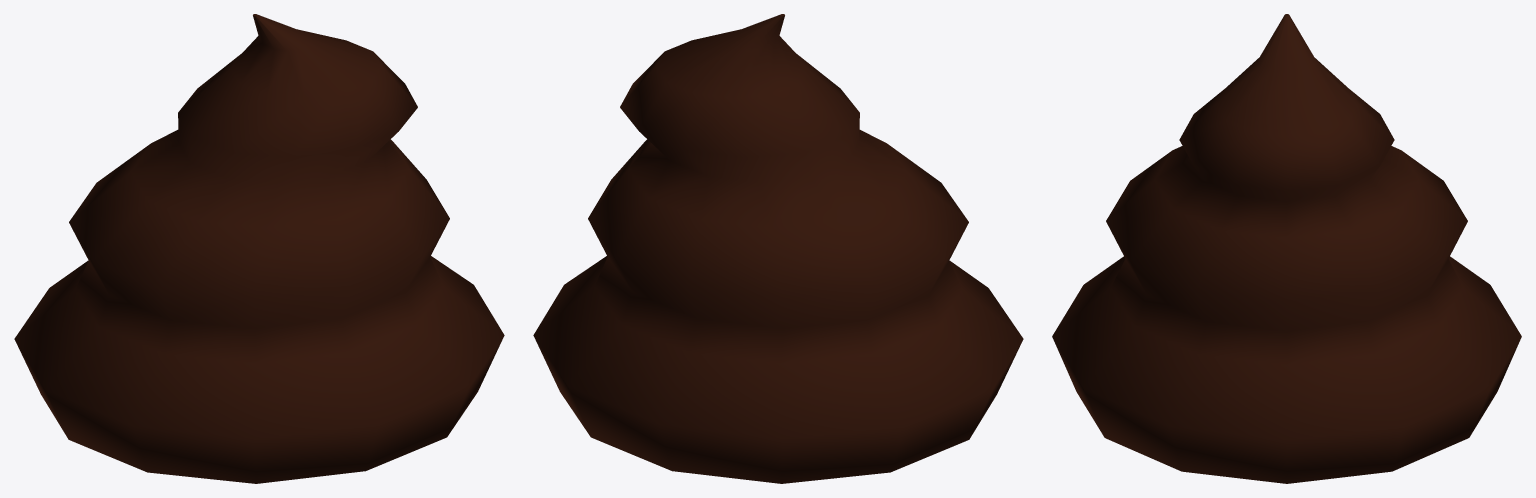
File: dog-poo.glb
3 views of the same model, side by side, from view 1: azimuth 30°, elevation 25°; view 2: azimuth 150°, elevation 25°; view 3: azimuth 270°, elevation 25° (orthographic).
Visible parts, largest first — view 1: dog-poo; view 2: dog-poo; view 3: dog-poo.
Part boxes in pixels (bbox=[...]): dog-poo: bbox=[14, 14, 504, 483]; dog-poo: bbox=[533, 14, 1023, 483]; dog-poo: bbox=[1052, 14, 1521, 483].
Bounding box in the file's own units: 0.2 × 0.179 × 0.192.
1 material, 1 textured.
